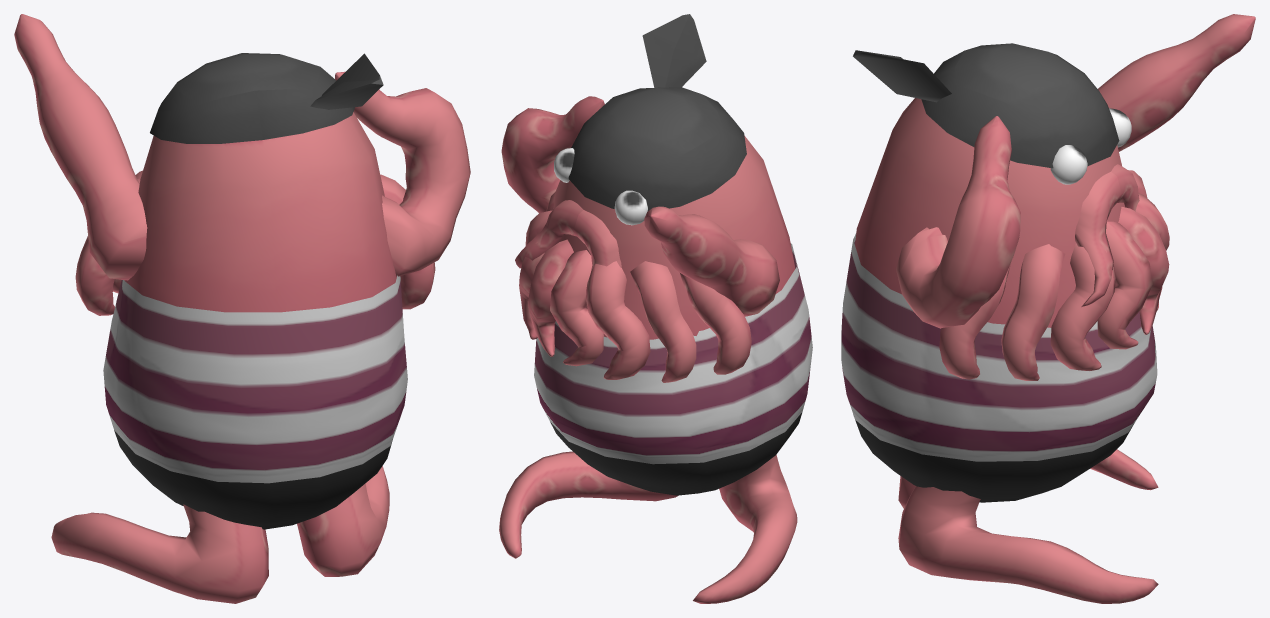
The model's file is tako_attack_07.fbx.
3 views of the same model, side by side, from view 1: azimuth 30°, elevation 25°; view 2: azimuth 150°, elevation 25°; view 3: azimuth 270°, elevation 25° (orthographic). The views are drawn at different scales.
Visible parts, largest first — view 1: A_07; view 2: A_07; view 3: A_07.
Part boxes in pixels (box(x1,y1,x2,y2)): A_07: box(14, 14, 470, 603); A_07: box(499, 14, 812, 603); A_07: box(841, 14, 1255, 603).
Size of the model in its own units: 1.25 by 1.77 by 1.28.
1 material, 1 textured.
